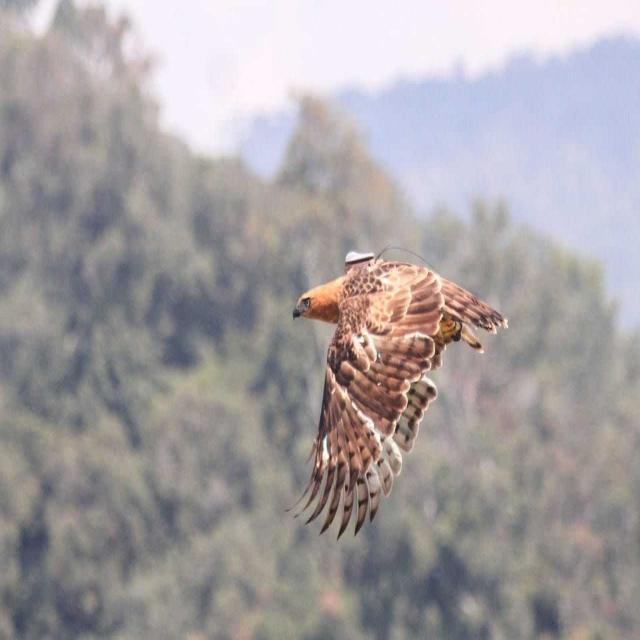Elang Jawa: (272, 222, 517, 558)
